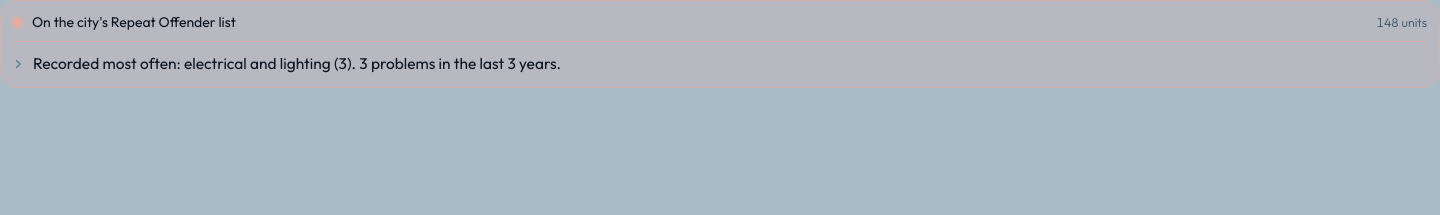
Test: keeps the counts when the building file cannot be loaded, and says the city's wording is missing
What coordinates should you click on to do the following:
click the button
I would click on:
 (297, 63)
Its box is top-left (5, 42), bottom-right (1435, 85).
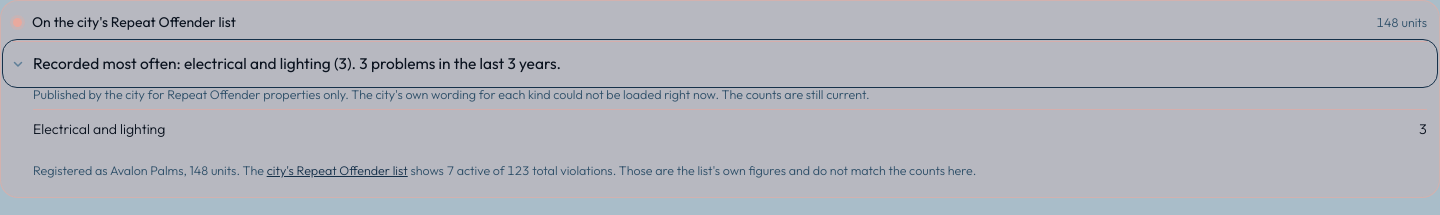
Result: the text "Electrical and lighting" is shown at top-left (33, 120), bottom-right (165, 138)
Result: the text "Published by the city" shows "Published by the city for Repeat Offender properties only. The city's own wording for each kind could not be loaded right now. The counts are still current." at top-left (33, 86), bottom-right (870, 102)
Result: the text "Registered as Avalon Palms" is shown at top-left (33, 162), bottom-right (190, 178)
